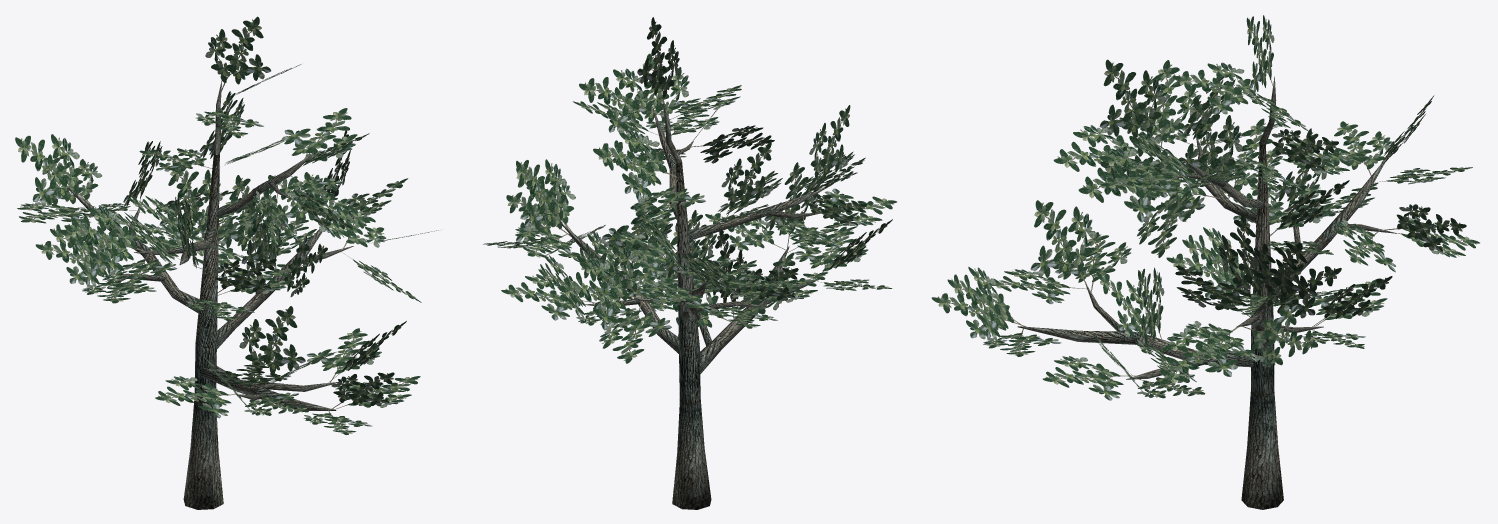
File: tree_7.obj
3 views of the same model, side by side, from view 1: azimuth 30°, elevation 25°; view 2: azimuth 150°, elevation 25°; view 3: azimuth 270°, elevation 25° (orthographic). The views are drawn at different scales.
Parts seen in each view (by area): view 1: leaves, trunk, branches; view 2: leaves, trunk, branches; view 3: leaves, branches, trunk.
Part boxes in pixels (x1=…): leaves: x1=15, y1=16, x2=438, y2=434; trunk: x1=183, y1=153, x2=223, y2=509; branches: x1=67, y1=80, x2=353, y2=410; leaves: x1=483, y1=17, x2=896, y2=363; trunk: x1=672, y1=161, x2=711, y2=509; branches: x1=560, y1=97, x2=831, y2=374; leaves: x1=931, y1=15, x2=1479, y2=400; branches: x1=1017, y1=76, x2=1396, y2=379; trunk: x1=1241, y1=141, x2=1283, y2=509.
Bounding box in the file's own units: 412 × 501 × 494.
